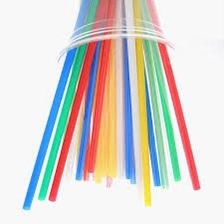drinking_straw: (17, 0, 90, 213), (150, 0, 204, 195), (132, 0, 155, 210)
glass: (50, 0, 181, 74)
